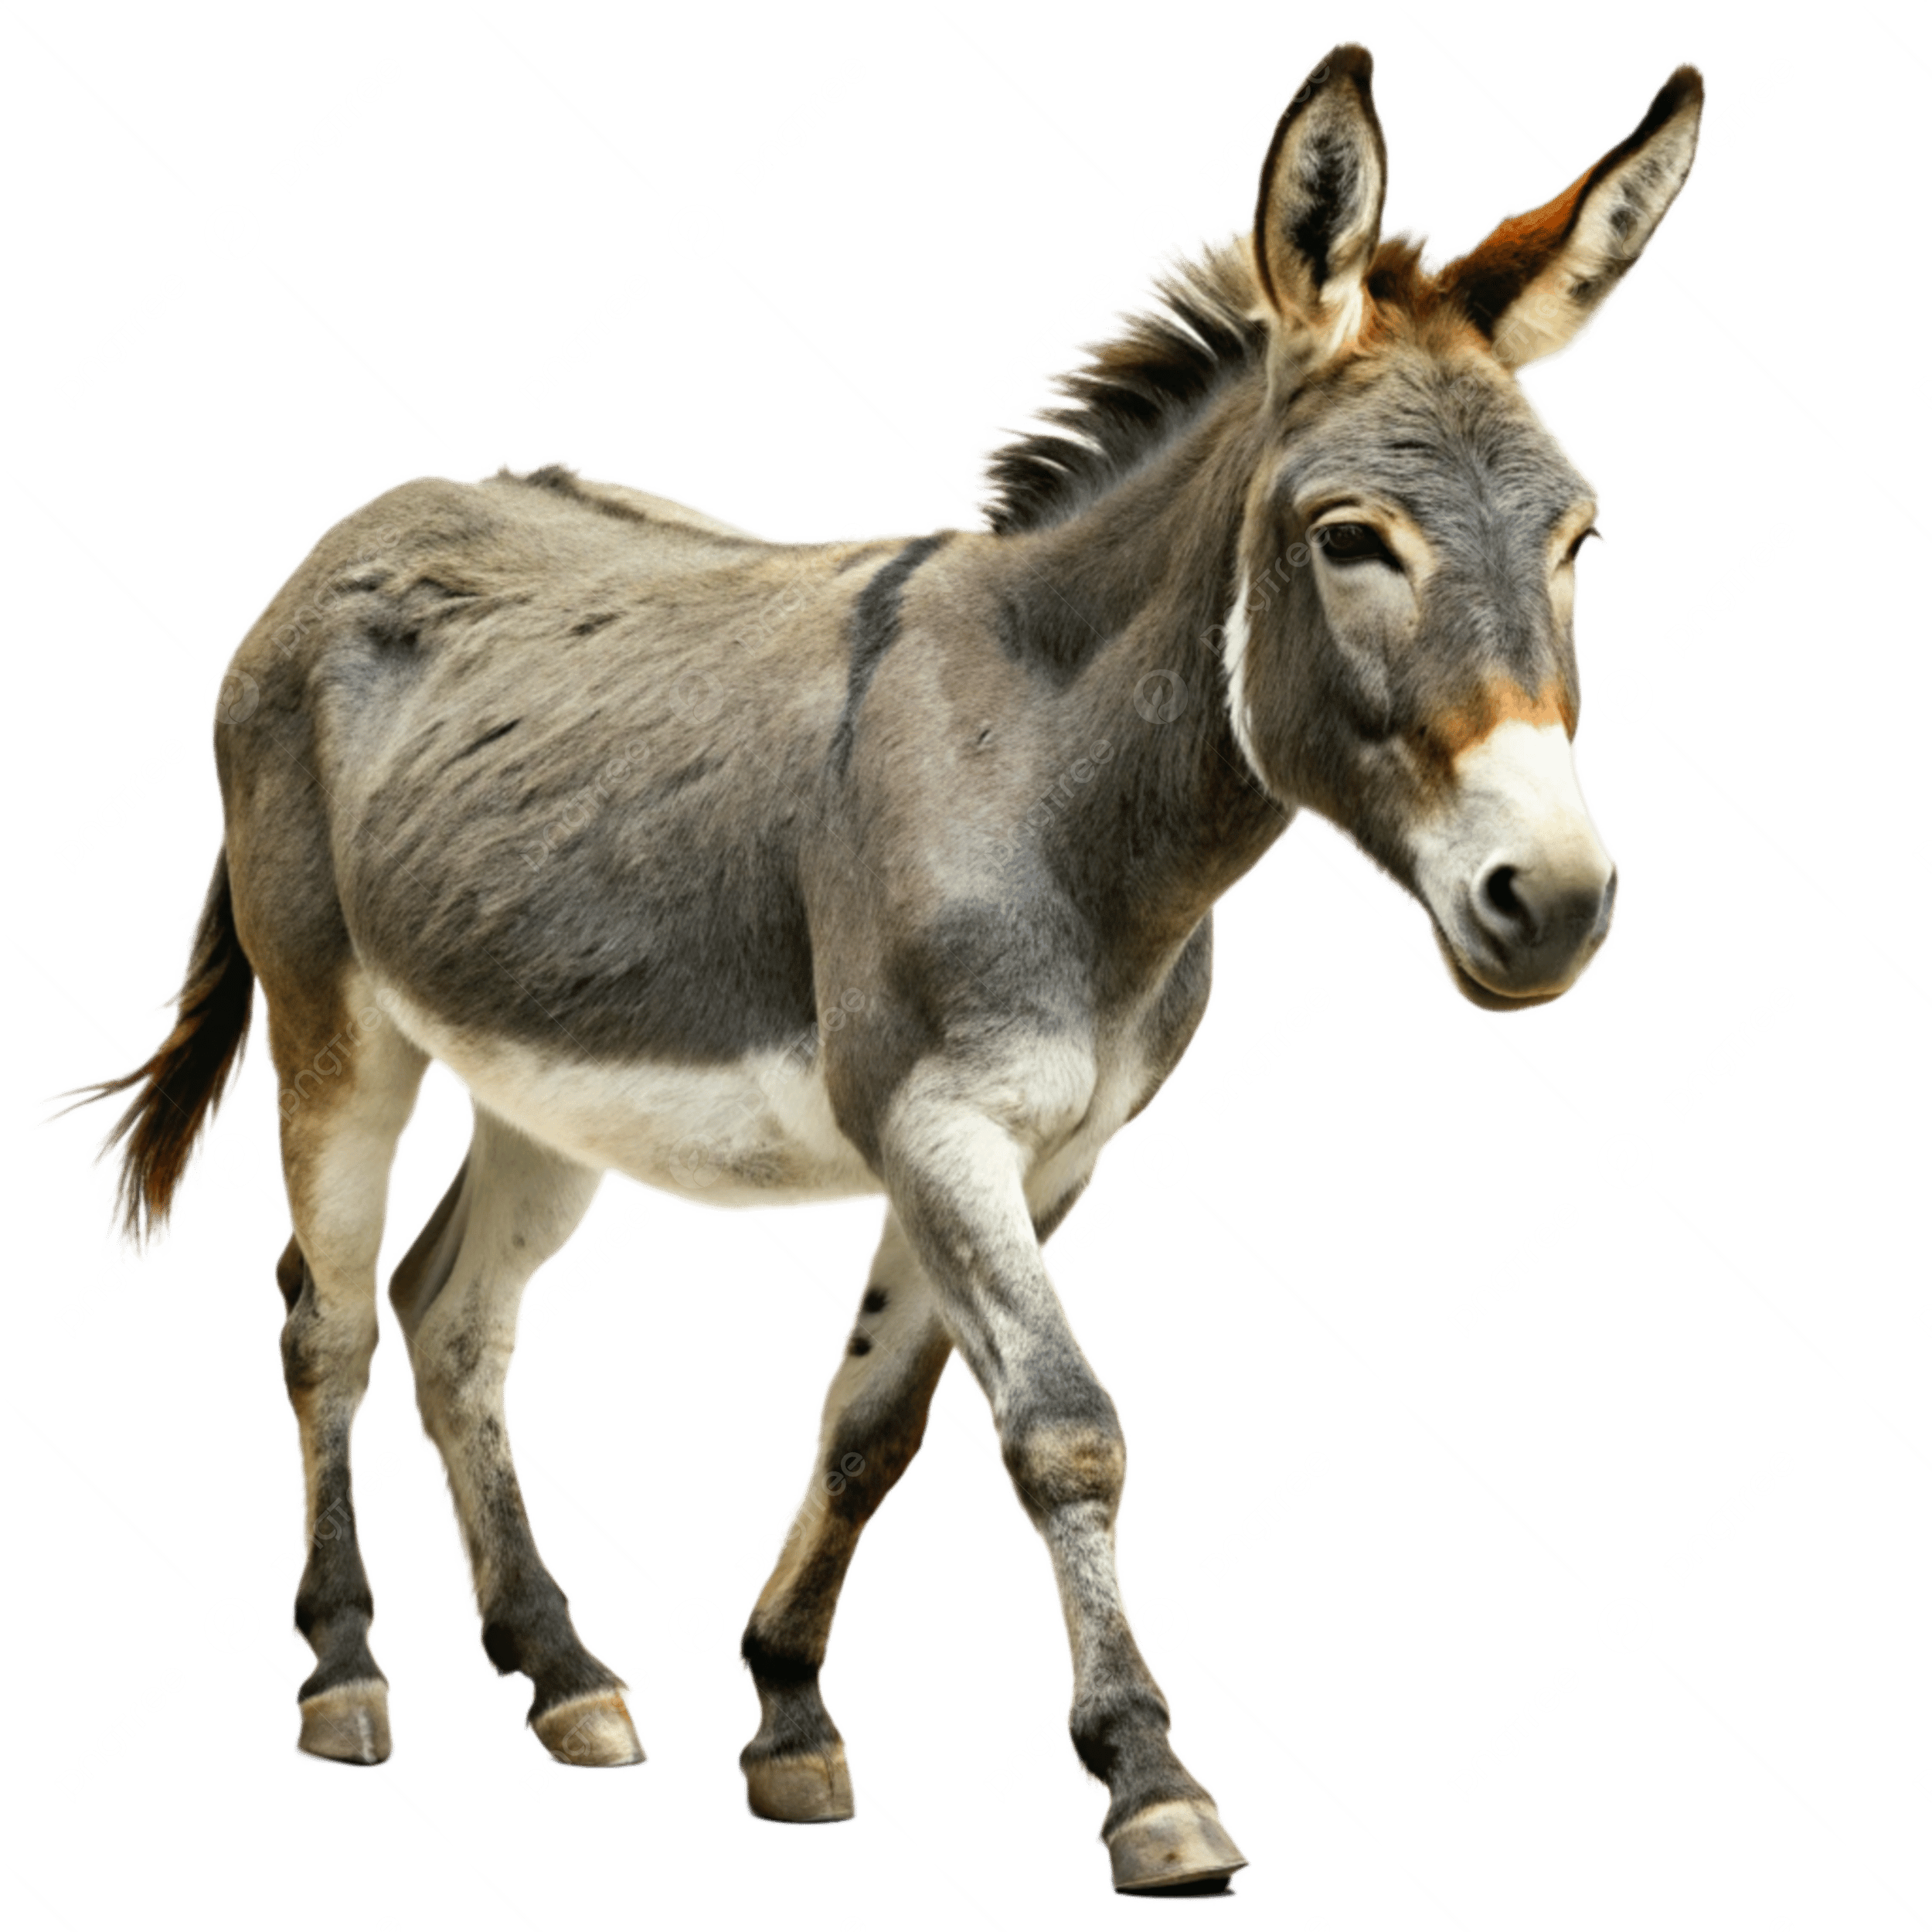donkey: (251, 55, 1652, 1932)
